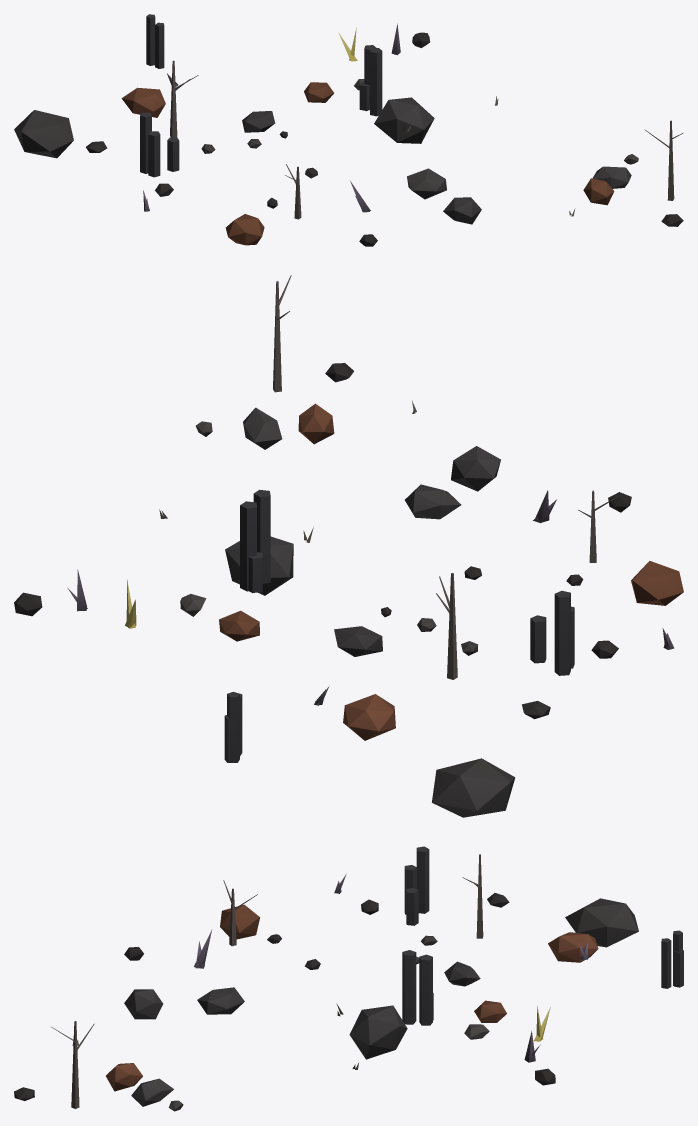
The model's file is ash_land_scatter_c13_29_lod1.glb.
The picture shows the model from 3 angles, top to bottom: view 1: azimuth 30°, elevation 25°; view 2: azimuth 150°, elevation 25°; view 3: azimuth 270°, elevation 25°; orthographic projection. The views are drawn at different scales.
Visible parts, largest first — view 1: ash_land_scatter_c13_29_lod1; view 2: ash_land_scatter_c13_29_lod1; view 3: ash_land_scatter_c13_29_lod1.
Part boxes in pixels (bbox=[...]): ash_land_scatter_c13_29_lod1: bbox=[14, 14, 683, 246]; ash_land_scatter_c13_29_lod1: bbox=[14, 275, 683, 817]; ash_land_scatter_c13_29_lod1: bbox=[14, 846, 683, 1111].
Size of the model in its own units: 38.8 by 10.13 by 48.78.
